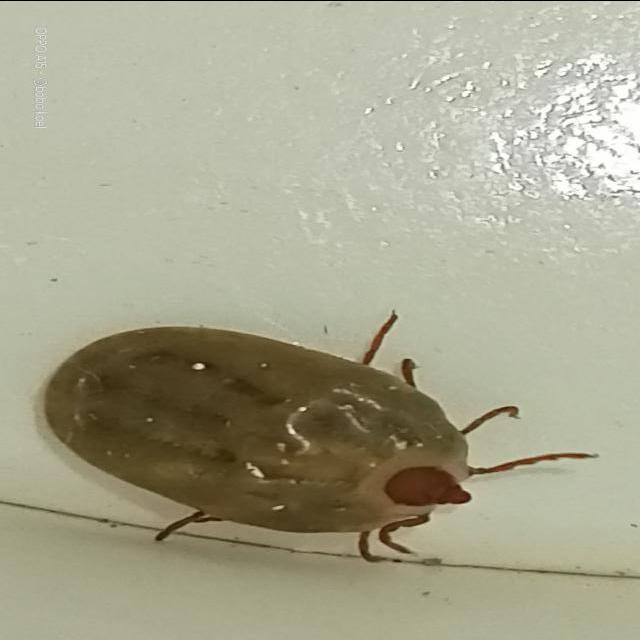Rhipicephalus Sanguineus-F-Fed: (39, 310, 598, 565)
